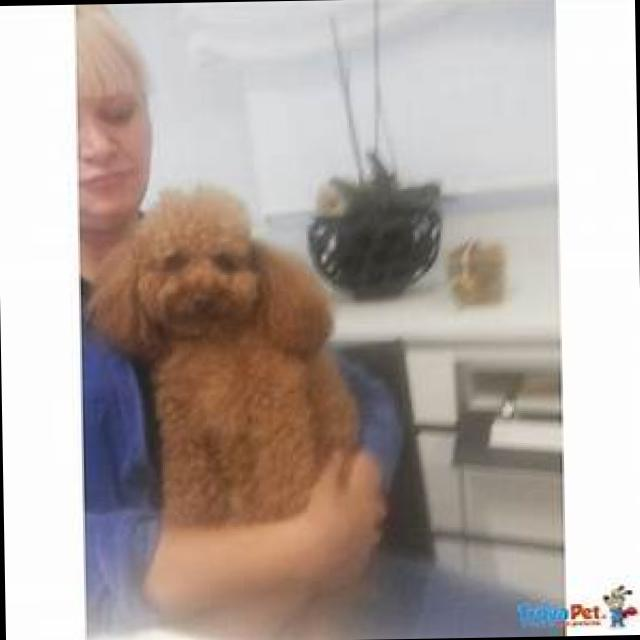dog: (109, 164, 364, 594)
